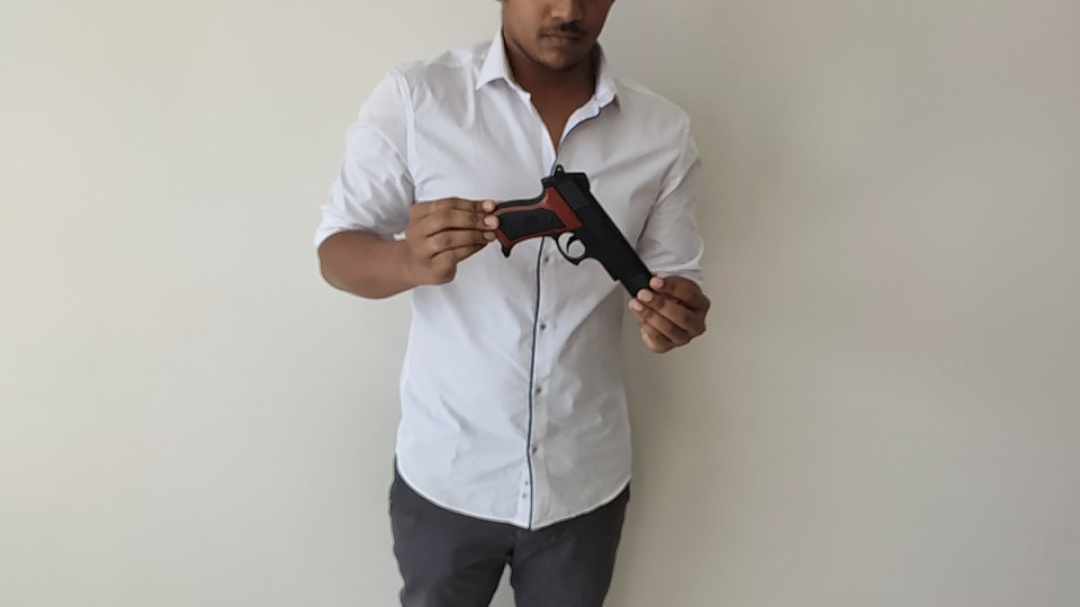gun: (44, 64, 1014, 580)
